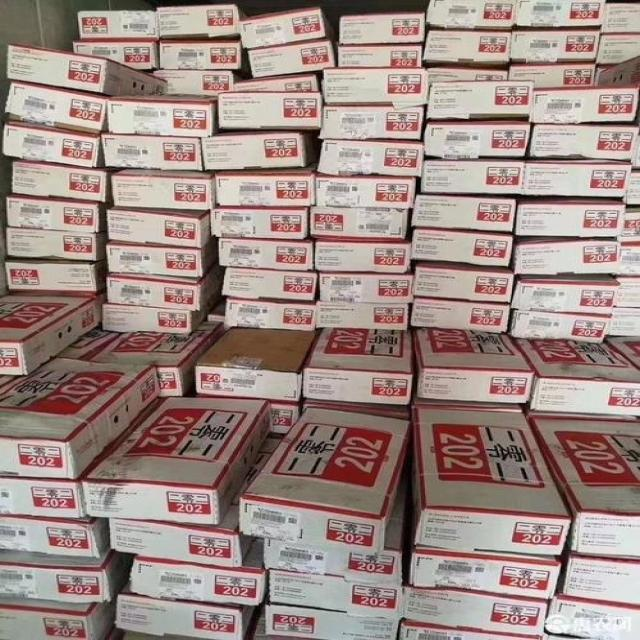box: (82, 397, 273, 525), (241, 407, 408, 552), (412, 406, 573, 555), (1, 357, 159, 478), (529, 415, 639, 557), (264, 496, 407, 585), (86, 320, 227, 396), (516, 338, 639, 415), (109, 505, 259, 568), (416, 327, 535, 403), (195, 328, 317, 402), (0, 290, 102, 375), (8, 44, 168, 97), (305, 329, 413, 404), (407, 546, 559, 599), (406, 586, 544, 635), (268, 568, 403, 618), (127, 557, 265, 605), (113, 594, 259, 638), (1, 551, 125, 599), (3, 83, 106, 134), (106, 92, 218, 137), (109, 266, 220, 311), (509, 274, 621, 317), (1, 597, 114, 638), (0, 515, 108, 557), (265, 605, 396, 638), (3, 123, 100, 167), (413, 260, 512, 303), (113, 169, 214, 211), (13, 160, 114, 201), (524, 159, 631, 197), (513, 236, 620, 274), (109, 207, 210, 247), (530, 86, 639, 123), (516, 199, 625, 236), (317, 140, 422, 178), (106, 240, 216, 276), (408, 229, 513, 266), (324, 67, 428, 104), (425, 119, 529, 156), (529, 125, 637, 160), (563, 556, 639, 605), (426, 82, 532, 117), (202, 134, 305, 170), (101, 134, 204, 170), (410, 196, 515, 231), (6, 258, 105, 295), (216, 168, 314, 205), (102, 304, 218, 335), (422, 158, 524, 193), (6, 196, 105, 232), (547, 599, 636, 639), (219, 93, 320, 128), (239, 7, 325, 48), (4, 226, 106, 260), (507, 311, 611, 344), (210, 206, 308, 240), (321, 107, 425, 139), (310, 206, 407, 240), (248, 40, 334, 78), (317, 175, 415, 208), (410, 300, 508, 333), (1, 479, 82, 518), (219, 238, 314, 271), (223, 267, 317, 300), (315, 241, 411, 273), (225, 298, 315, 330), (320, 273, 413, 303), (316, 300, 407, 330), (509, 32, 599, 62), (340, 12, 424, 44), (156, 6, 241, 37), (422, 32, 511, 61), (426, 1, 516, 29), (509, 63, 595, 91), (74, 41, 156, 70), (78, 12, 159, 41), (160, 40, 241, 68), (516, 1, 603, 26), (154, 70, 232, 97), (399, 623, 538, 638), (338, 46, 420, 68), (428, 68, 508, 87), (232, 75, 316, 92), (596, 57, 639, 87), (596, 35, 639, 64), (600, 4, 640, 33), (603, 337, 637, 366), (612, 308, 639, 335), (621, 211, 640, 246)
